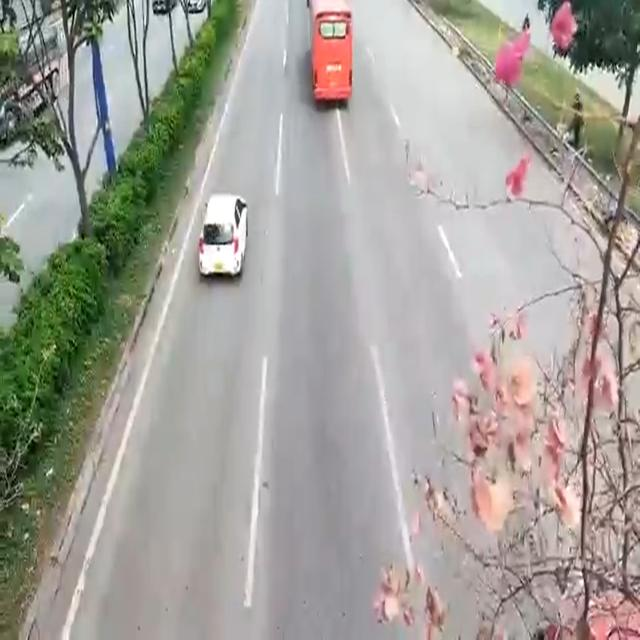bus: (306, 3, 356, 108)
car: (197, 194, 242, 281)
